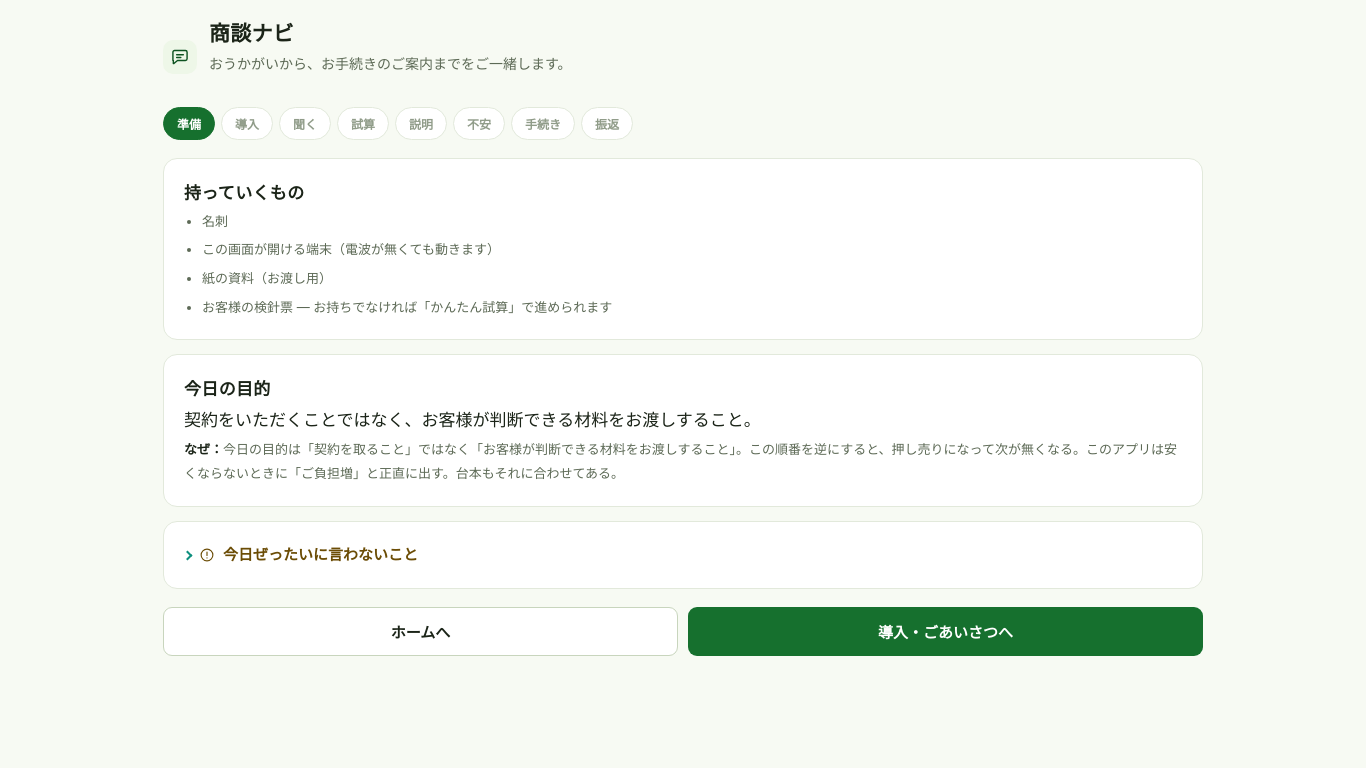
Test: 導入 › そのまま読める言葉が出る
Click the button "導入" at point(247, 123), box [221, 107, 273, 140]
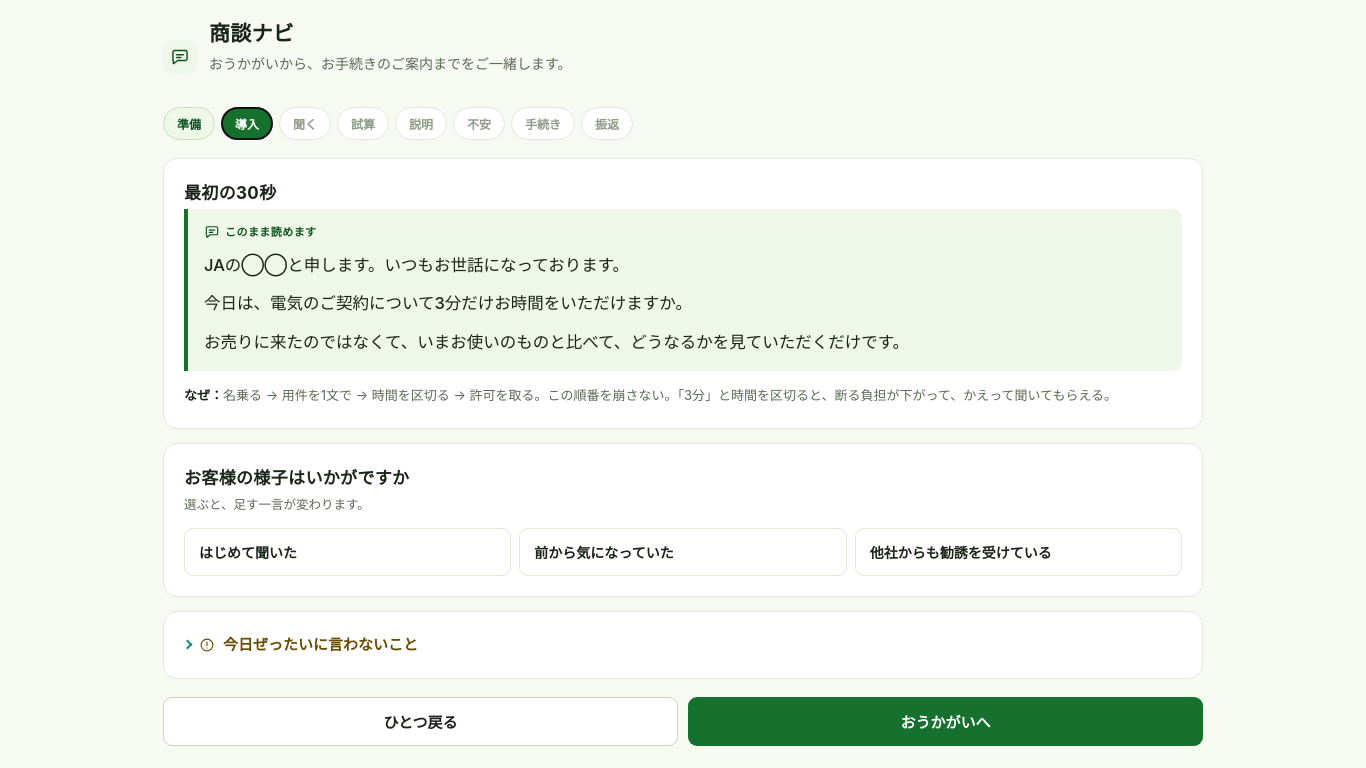
Now the text "このまま読めます" is shown, box [204, 224, 316, 240]
Now the text "今日は、電気のご契約について3分だけお時間をいただけますか。" is shown, box [204, 293, 692, 313]
